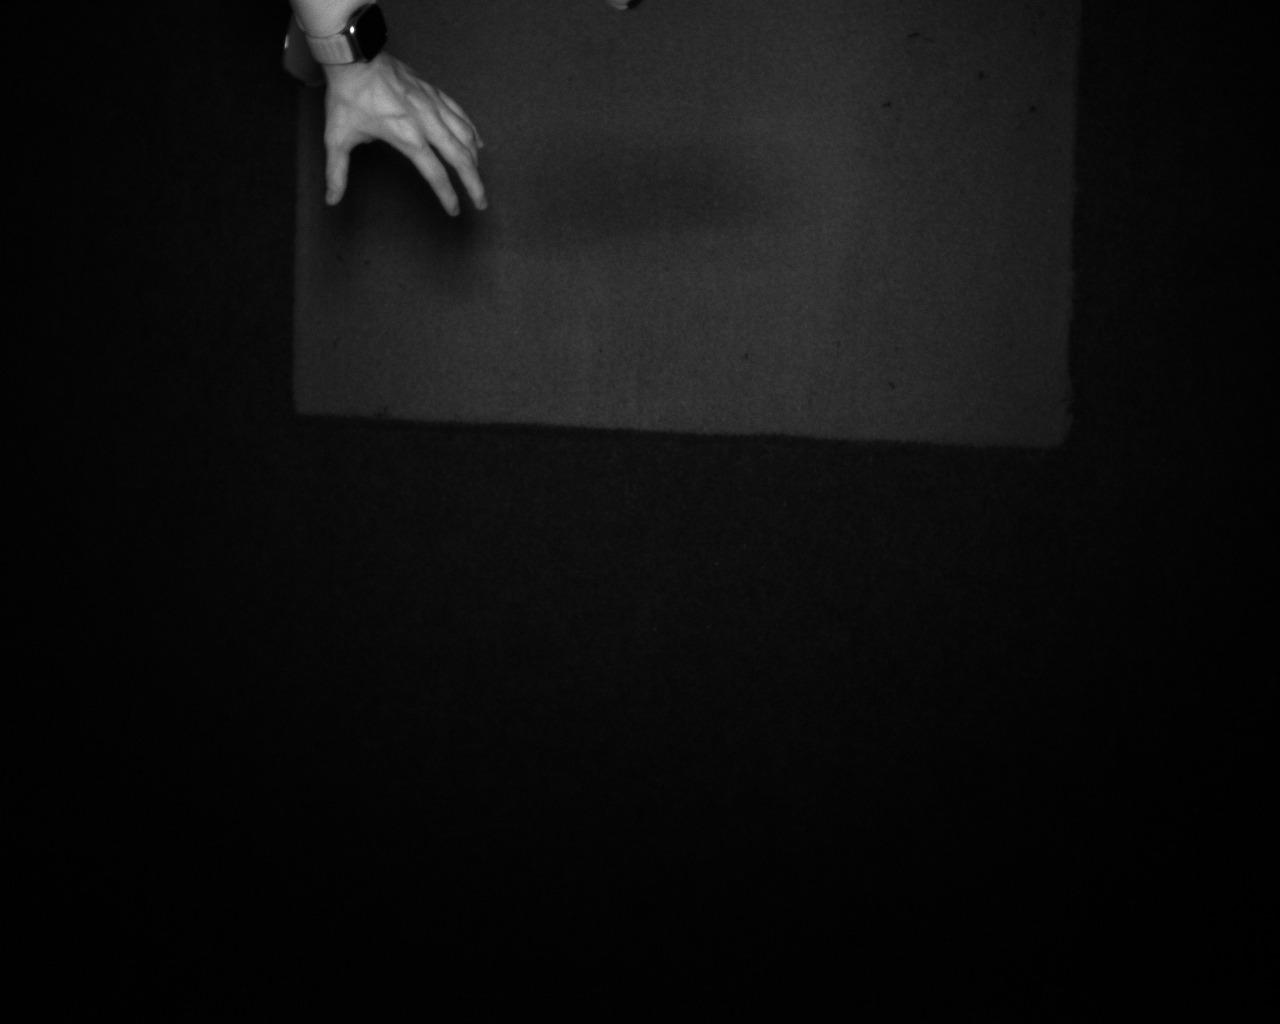hand: (304, 65, 501, 233)
